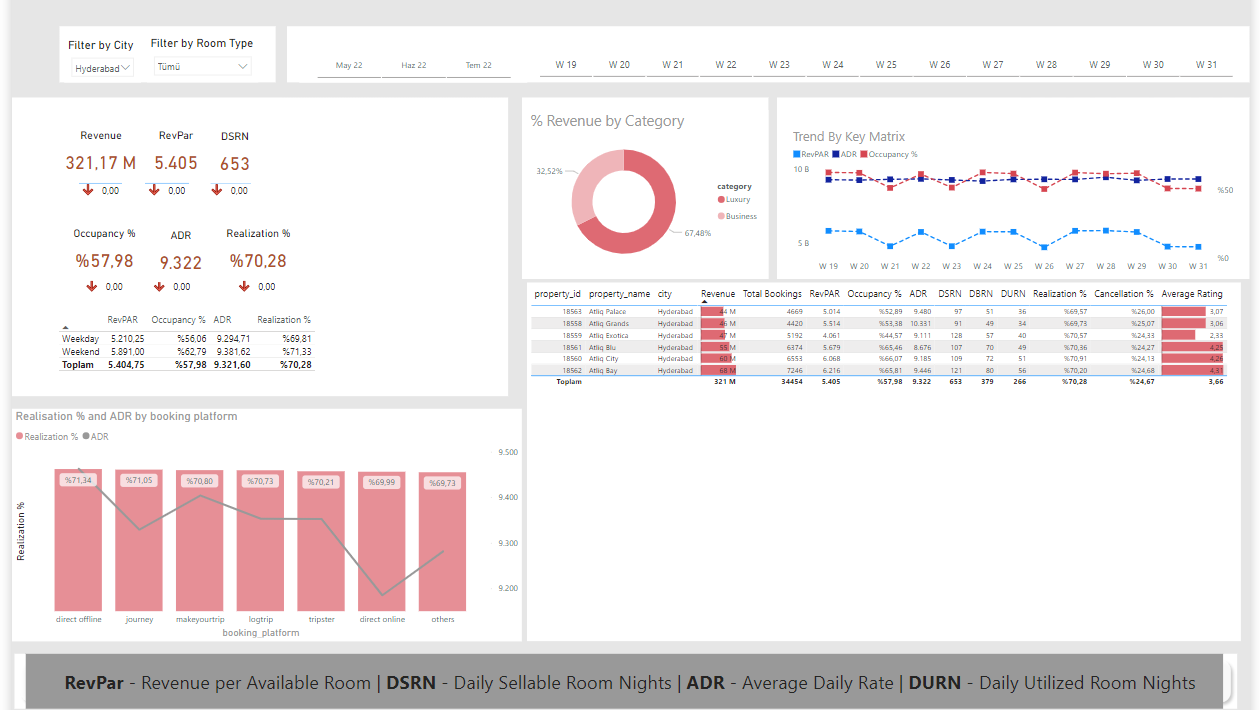

Layout of this report page (visuals, bound fields, positions):
{"tool":"powerbi","page":{"name":"1. sayfa","canvas":[1800,1100],"ordinal":0},"visuals":[{"type":"shape","box":[3.6,987.3,1778.2,80],"z":0},{"type":"shape","box":[1112.7,178.2,687.3,263.6],"z":1000},{"type":"shape","box":[741.8,178.2,358.2,263.6],"z":2000},{"type":"shape","box":[0,178.2,721.8,434.5],"z":3000},{"type":"shape","box":[400,74.5,1400,81.8],"z":4000},{"type":"shape","box":[69.1,74.5,314.5,81.8],"z":5000},{"type":"tableEx","fields":{"Values":["dim_hotels.property_id","dim_hotels.property_name","dim_hotels.city","key_measures.Revenue","key_measures.Total Bookings","key_measures.RevPAR","key_measures.Occupancy %","key_measures.ADR","key_measures.DSRN","key_measures.DBRN","key_measures.DURN","key_measures.Realization %"]},"box":[749.1,447.3,1038.2,521.8],"z":6000},{"type":"slicer","title":"Filter by Room Type","fields":{"Values":["dim_date.mmm yy"]},"box":[418.2,105.5,330.9,50.9],"z":7000},{"type":"slicer","title":"Filter by Room Type","fields":{"Values":["dim_date.week no"]},"box":[742.4,106.1,1057.6,49.7],"z":8000},{"type":"tableEx","fields":{"Values":["key_measures.Revenue WoW change %"]},"box":[91.3,269,75.5,70],"z":9000},{"type":"donutChart","title":"% Revenue by Category","fields":{"Category":["dim_hotels.category"],"Y":["key_measures.Revenue"]},"box":[749.1,196.4,350.9,245.5],"z":10000},{"type":"card","title":"Revenue","fields":{"Values":["key_measures.Revenue"]},"box":[67,223.2,124.2,78.4],"z":11000},{"type":"lineChart","title":"Trend By Key Matrix","fields":{"Category":["dim_date.mmm yy.Varyasyon.Tarih Hiyerarşisi.Ay","dim_date.week no"],"Y":["key_measures.RevPAR","key_measures.ADR"],"Y2":["key_measures.Occupancy %"]},"box":[1130.9,221.8,650.9,220],"z":12000},{"type":"lineStackedColumnComboChart","title":"Realisation % and ADR by booking platform","fields":{"Category":["fact_bookings.booking_platform"],"Y":["key_measures.Realization %"],"Y2":["key_measures.ADR"]},"box":[0,630.9,741.8,338.2],"z":13000},{"type":"tableEx","fields":{"Values":["dim_date.day_type","key_measures.RevPAR","key_measures.Occupancy %","key_measures.ADR","key_measures.Realization %"]},"box":[61.8,487.3,410.9,96.4],"z":14000},{"type":"slicer","title":"Filter by City","fields":{"Values":["dim_hotels.city"]},"box":[76.4,90.9,110.9,65.5],"z":15000},{"type":"slicer","title":"Filter by Room Type","fields":{"Values":["dim_rooms.room_class"]},"box":[196.4,89.1,161.8,67.3],"z":16000},{"type":"tableEx","fields":{"Values":["key_measures.Revenue WoW change %"]},"box":[278.7,269,90.3,64.5],"z":17000},{"type":"tableEx","fields":{"Values":["key_measures.Revenue WoW change %"]},"box":[187.3,268.5,101.3,68.2],"z":18000},{"type":"card","title":"RevPar","fields":{"Values":["key_measures.RevPAR"]},"box":[181.3,224.2,113.3,77.7],"z":19000},{"type":"card","title":"DSRN","fields":{"Values":["key_measures.DSRN"]},"box":[285.1,224.8,77.4,77.4],"z":20000},{"type":"tableEx","fields":{"Values":["key_measures.Revenue WoW change %"]},"box":[96.6,409.1,75.5,70],"z":21000},{"type":"tableEx","fields":{"Values":["key_measures.Revenue WoW change %"]},"box":[318.4,409,81.1,64.5],"z":22000},{"type":"tableEx","fields":{"Values":["key_measures.Revenue WoW change %"]},"box":[195.2,408.6,101.3,68.2],"z":23000},{"type":"card","title":"Occupancy %","fields":{"Values":["key_measures.Occupancy %"]},"box":[72.4,367.3,123.8,77.7],"z":24000},{"type":"card","title":"ADR","fields":{"Values":["key_measures.ADR"]},"box":[184,368.6,123.8,77.7],"z":25000},{"type":"card","title":"Realization %","fields":{"Values":["key_measures.Realization %"]},"box":[297,367.3,123.8,77.7],"z":26000},{"type":"textbox","box":[20,987.3,1741.8,80],"z":27000}]}

Visuals, with their boxes on the page's 1800x1100 design canvas (x1, y1, x2, y2). These are canvas units, not pixel positions in the 1260x710 screenshot, which may show the page scaled, cropped or inside an application window:
shape: {"left": 4, "top": 987, "right": 1782, "bottom": 1067}
shape: {"left": 1113, "top": 178, "right": 1800, "bottom": 442}
shape: {"left": 742, "top": 178, "right": 1100, "bottom": 442}
shape: {"left": 0, "top": 178, "right": 722, "bottom": 613}
shape: {"left": 400, "top": 74, "right": 1800, "bottom": 156}
shape: {"left": 69, "top": 74, "right": 384, "bottom": 156}
tableEx - dim_hotels.property_id x dim_hotels.property_name: {"left": 749, "top": 447, "right": 1787, "bottom": 969}
"Filter by Room Type" slicer: {"left": 418, "top": 106, "right": 749, "bottom": 156}
"Filter by Room Type" slicer: {"left": 742, "top": 106, "right": 1800, "bottom": 156}
tableEx - key_measures.Revenue WoW change %: {"left": 91, "top": 269, "right": 167, "bottom": 339}
"% Revenue by Category" donutChart: {"left": 749, "top": 196, "right": 1100, "bottom": 442}
"Revenue" card: {"left": 67, "top": 223, "right": 191, "bottom": 302}
"Trend By Key Matrix" lineChart: {"left": 1131, "top": 222, "right": 1782, "bottom": 442}
"Realisation % and ADR by booking platform" lineStackedColumnComboChart: {"left": 0, "top": 631, "right": 742, "bottom": 969}
tableEx - dim_date.day_type x key_measures.RevPAR: {"left": 62, "top": 487, "right": 473, "bottom": 584}
"Filter by City" slicer: {"left": 76, "top": 91, "right": 187, "bottom": 156}
"Filter by Room Type" slicer: {"left": 196, "top": 89, "right": 358, "bottom": 156}
tableEx - key_measures.Revenue WoW change %: {"left": 279, "top": 269, "right": 369, "bottom": 334}
tableEx - key_measures.Revenue WoW change %: {"left": 187, "top": 268, "right": 289, "bottom": 337}
"RevPar" card: {"left": 181, "top": 224, "right": 295, "bottom": 302}
"DSRN" card: {"left": 285, "top": 225, "right": 362, "bottom": 302}
tableEx - key_measures.Revenue WoW change %: {"left": 97, "top": 409, "right": 172, "bottom": 479}
tableEx - key_measures.Revenue WoW change %: {"left": 318, "top": 409, "right": 400, "bottom": 474}
tableEx - key_measures.Revenue WoW change %: {"left": 195, "top": 409, "right": 296, "bottom": 477}
"Occupancy %" card: {"left": 72, "top": 367, "right": 196, "bottom": 445}
"ADR" card: {"left": 184, "top": 369, "right": 308, "bottom": 446}
"Realization %" card: {"left": 297, "top": 367, "right": 421, "bottom": 445}
textbox: {"left": 20, "top": 987, "right": 1762, "bottom": 1067}
